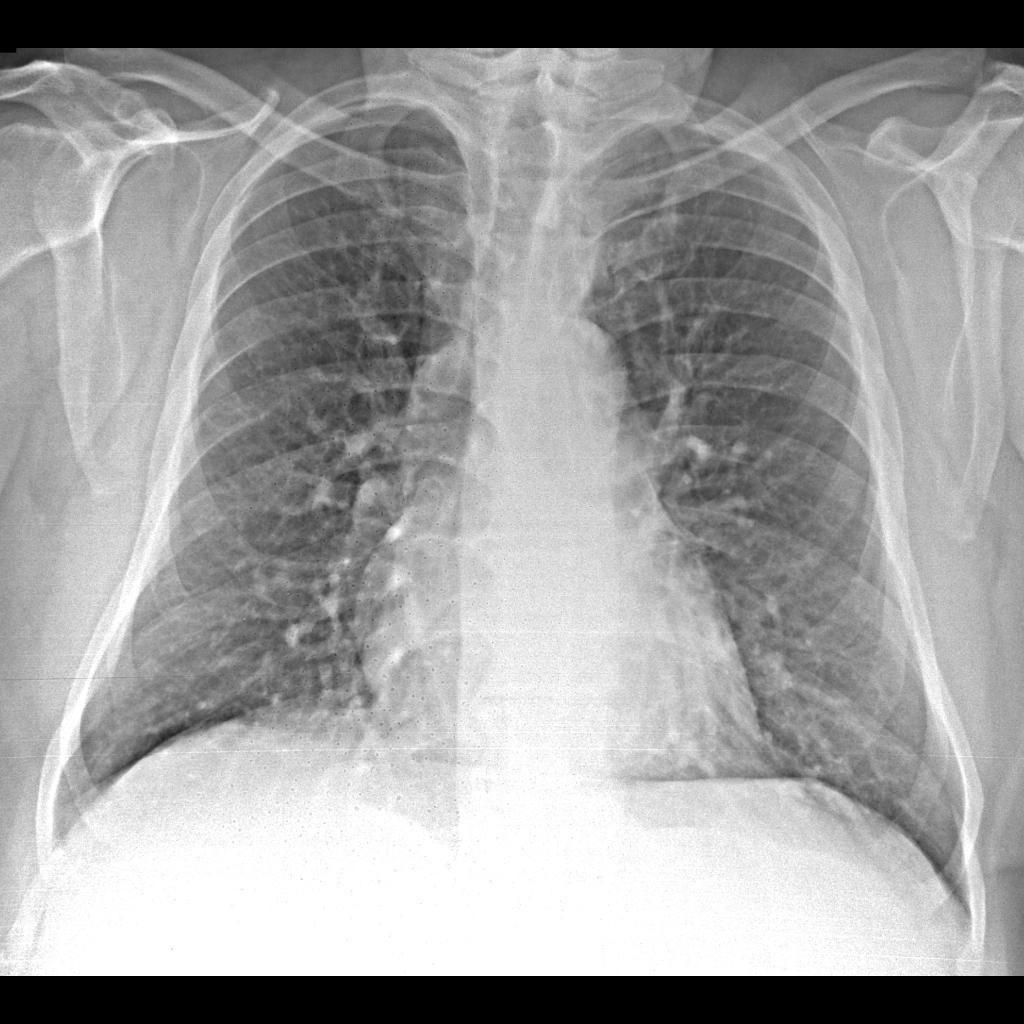Nodule: (740, 644, 805, 710)
